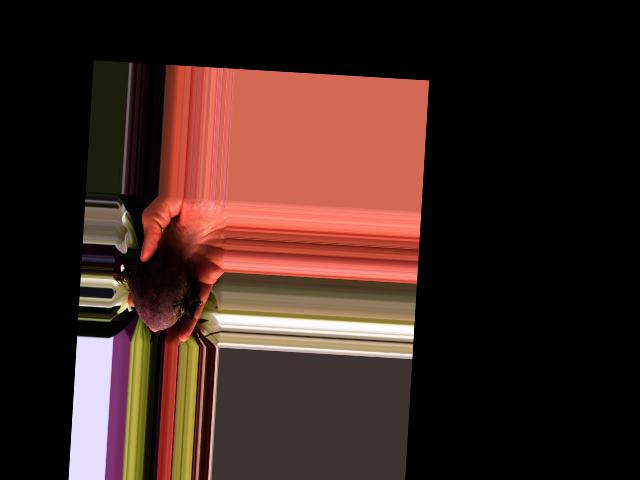beet: (110, 248, 205, 333)
